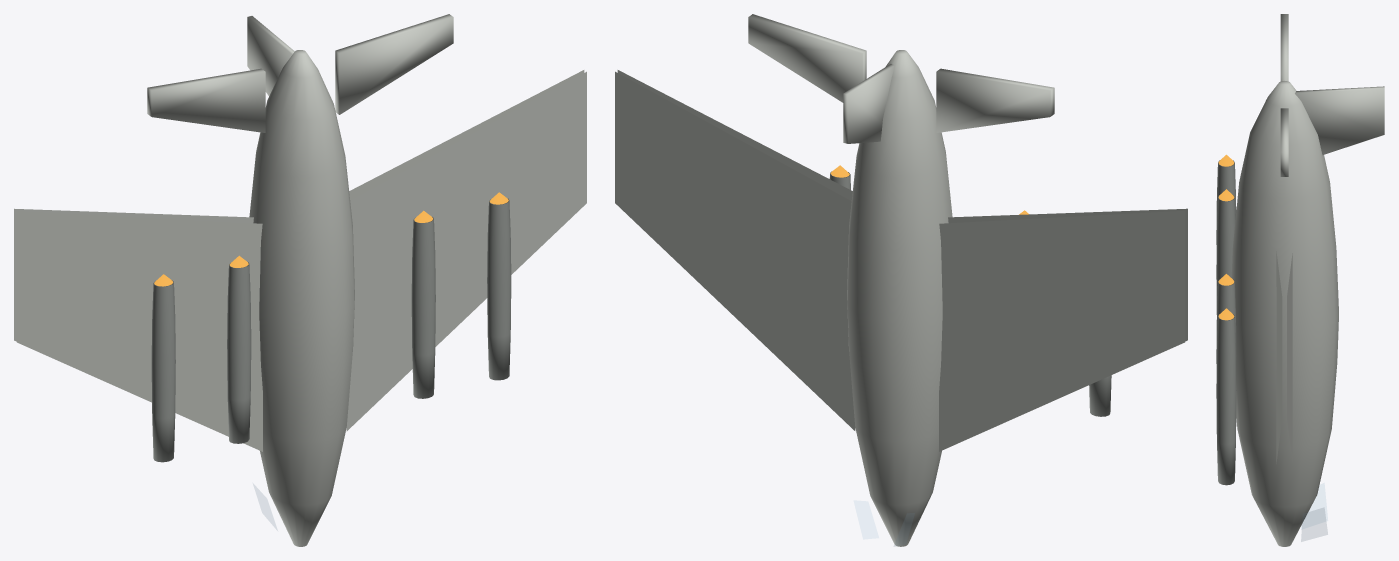
The model's file is bomber.glb.
3 renders of one model, left to right at view 1: azimuth 30°, elevation 25°; view 2: azimuth 150°, elevation 25°; view 3: azimuth 270°, elevation 25°, orthographic. The views are drawn at different scales.
Visible parts, largest first — view 1: BWings, BFuselage, Engines, BHTail, BVTail; view 2: BWings, BFuselage, BHTail, BVTail, Engines, BCockpit; view 3: BFuselage, Engines, BVTail, BWings, BHTail, BCockpit, BNozzles.
Boxes of the visible parts, x1,y1,x2,y2 form: BWings: [14, 70, 586, 451]; BFuselage: [249, 50, 354, 546]; Engines: [151, 198, 511, 462]; BHTail: [147, 14, 453, 132]; BVTail: [247, 16, 294, 96]; BWings: [615, 70, 1187, 451]; BFuselage: [847, 50, 952, 546]; BHTail: [748, 14, 1054, 132]; BVTail: [843, 64, 894, 143]; Engines: [829, 171, 1111, 416]; BCockpit: [854, 501, 914, 546]; BFuselage: [1231, 81, 1338, 546]; Engines: [1216, 160, 1236, 485]; BVTail: [1295, 86, 1384, 155]; BWings: [1276, 251, 1292, 463]; BHTail: [1280, 14, 1288, 176]; BCockpit: [1301, 483, 1327, 541]; BNozzles: [1218, 154, 1234, 320].
Size of the model in its own units: 34 by 28 by 9.25.
